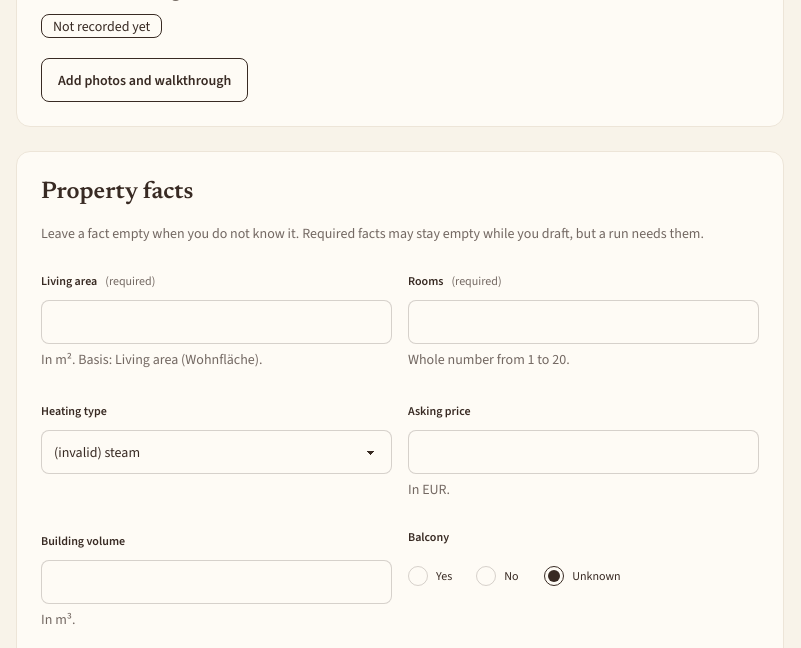
Test case: saving the fact form › keeps a stored enum value the profile dropped visible and clearable
(page scrolled)
Expected: the dropdown labelled "Heating type" shows "(invalid) steam", [41,430,392,474]
Type "40" into the field labelled "Living area (required)" at (216,322), box [41,300,392,344]
(page scrolled)
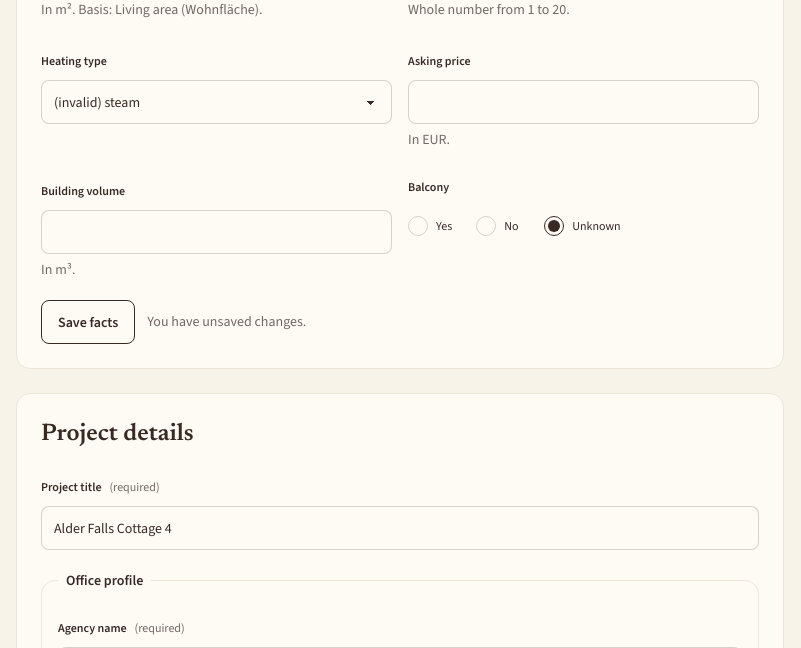
Click the button "Save facts" at (88,322), box [41,300,135,344]
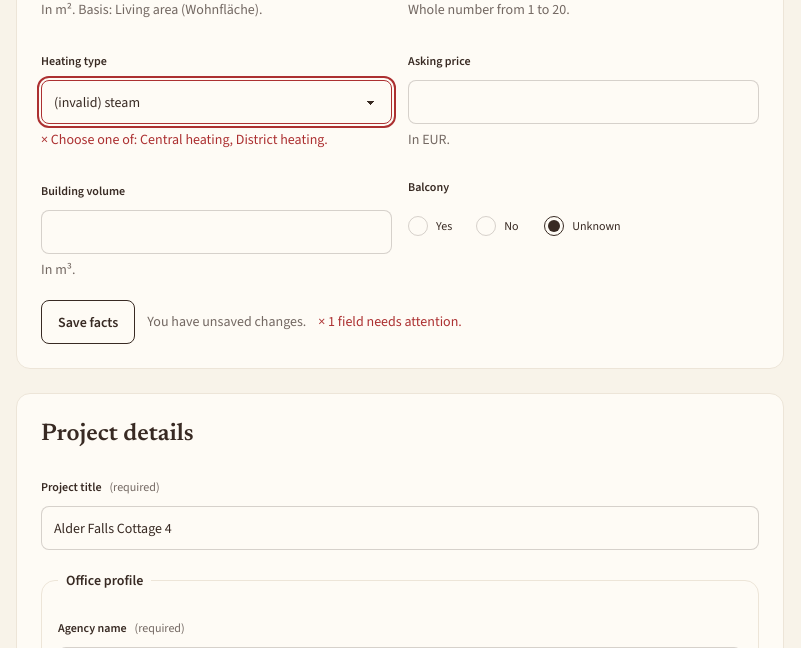
Expected: the text "× Choose one of: Central heating, District heating." is shown, [41,130,328,149]
Select "Unknown" in the dropdown labelled "Heating type" at (216,102), box [41,80,392,124]
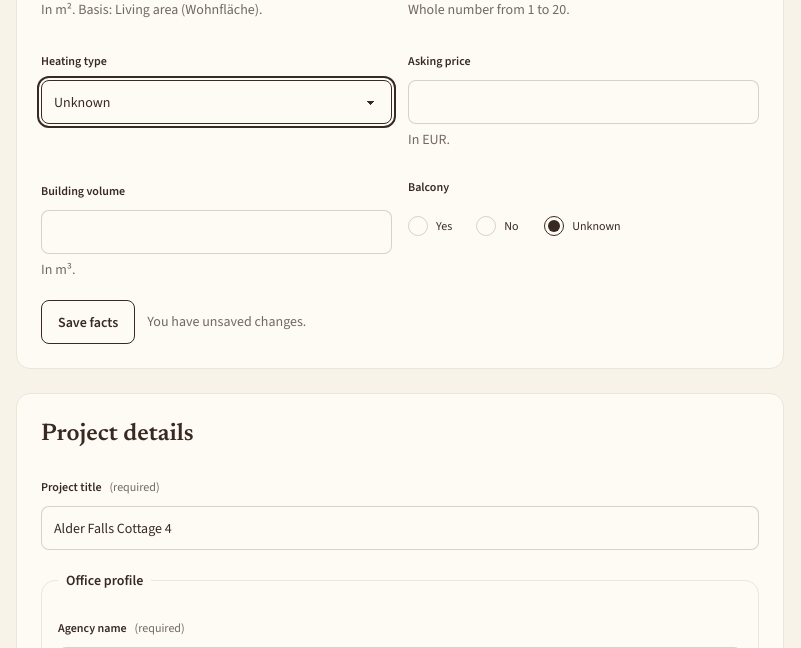
Click the button "Save facts" at (88,322), box [41,300,135,344]
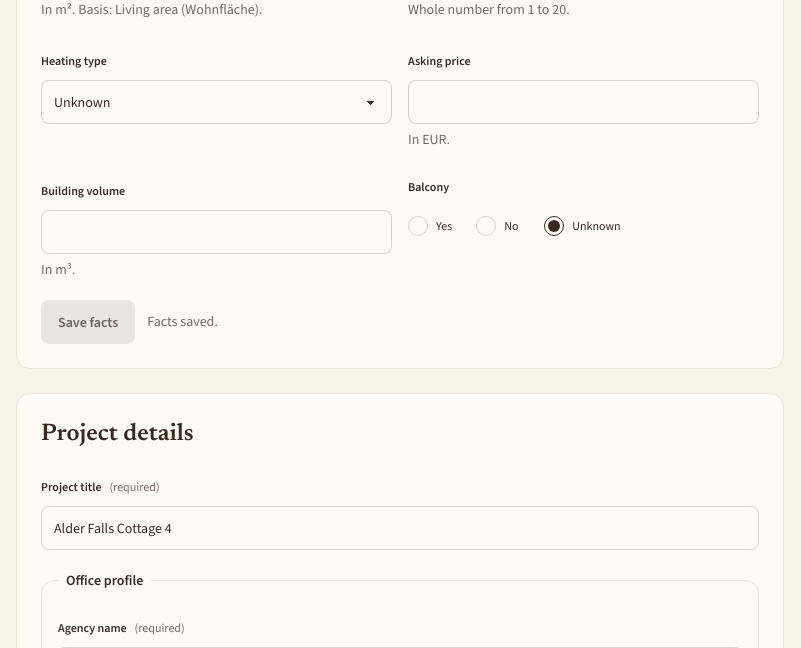
Expected: the text "Facts saved." is shown, [147,312,218,332]
